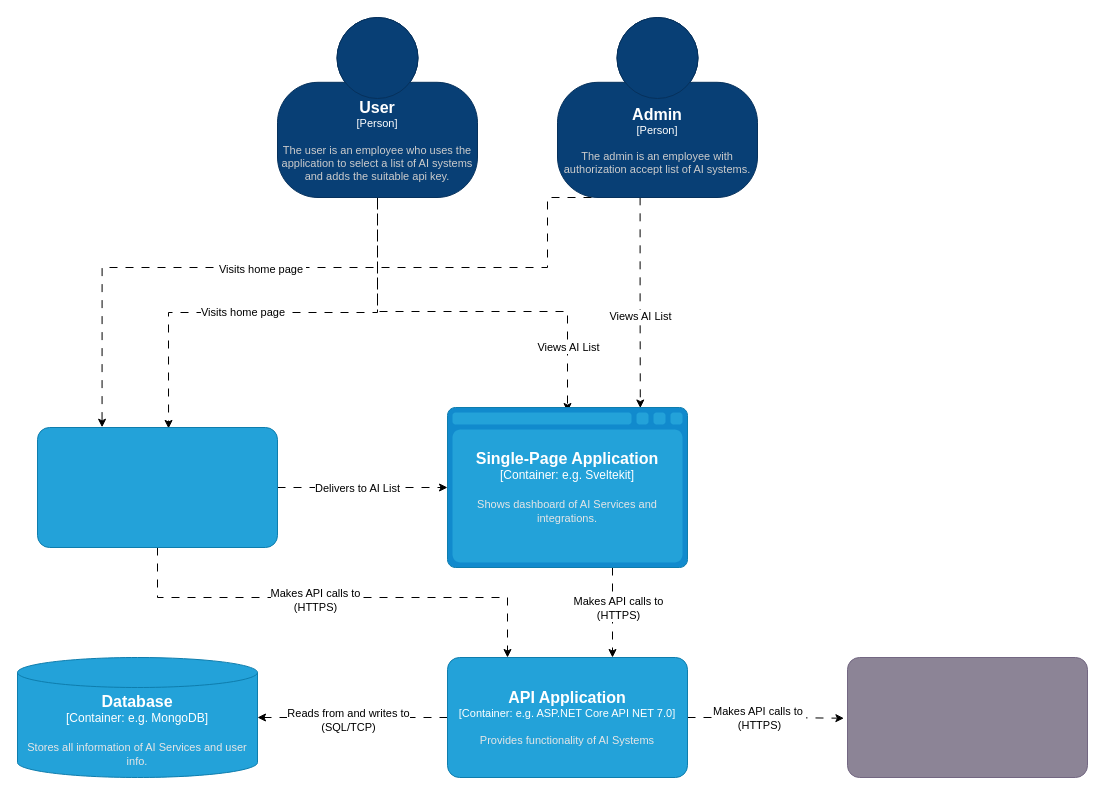
This 1105x795 diagram has some shape labels left out. The box of each missing label's shape, as (x1, y1, x2, y2) in pixels:
AI API's [Software System] Communicates which services are available.: (846, 656, 1088, 778)
Web Application [Container: e.g. Sveltekit] Login page: (36, 426, 278, 548)
